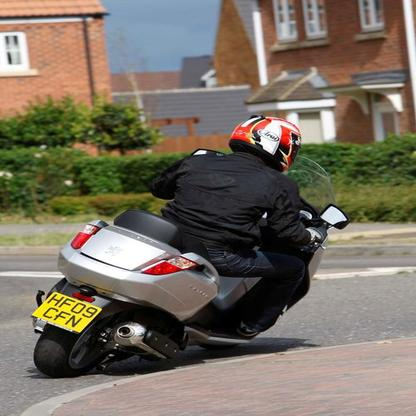target: (30, 113, 350, 376)
